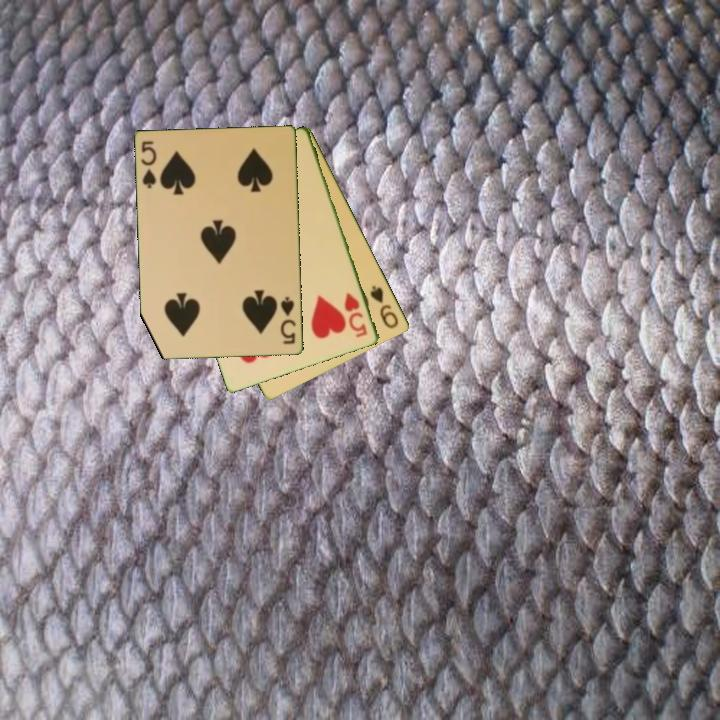5h: (341, 290, 371, 341)
5s: (277, 293, 299, 347), (138, 138, 159, 191)
9s: (367, 282, 402, 332)
